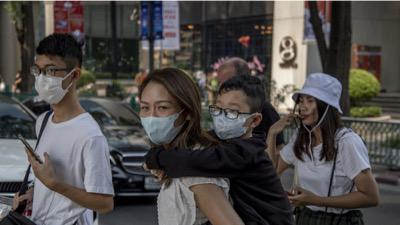with_mask: (140, 98, 187, 145), (211, 98, 253, 139), (33, 62, 72, 104)
without_mask: (298, 95, 318, 126)
